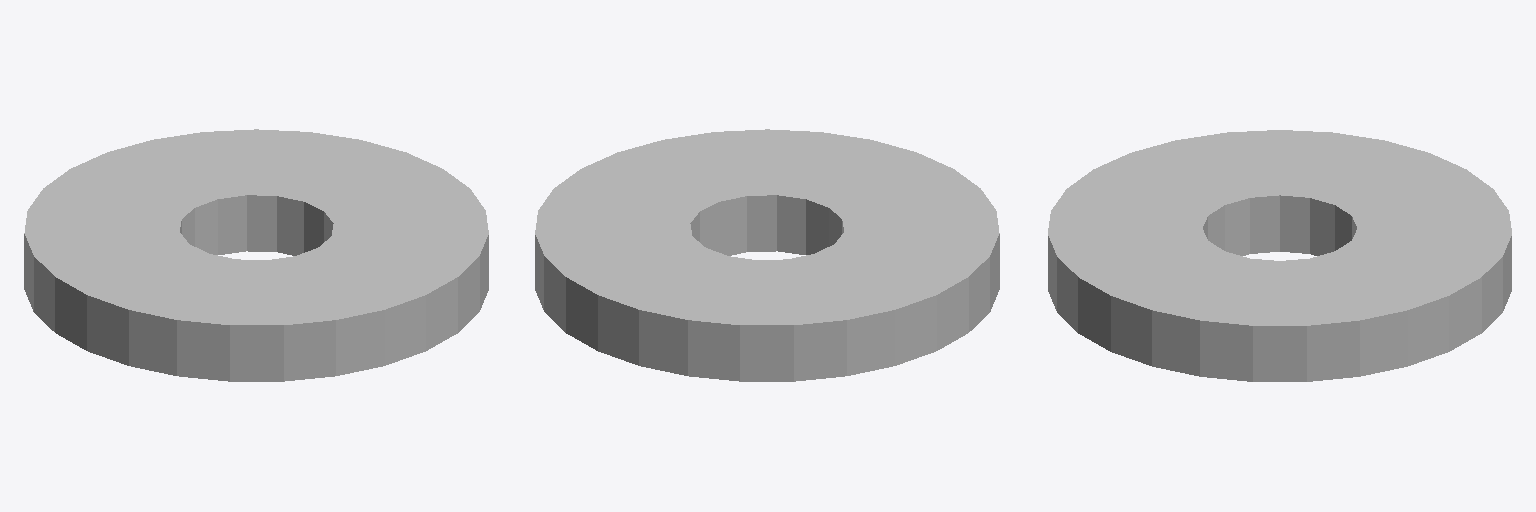
Rendered from Дистанционная шайба ролика ГРМ.obj.
3 renders of one model, left to right at view 1: azimuth 30°, elevation 25°; view 2: azimuth 150°, elevation 25°; view 3: azimuth 270°, elevation 25°, orthographic.
Parts seen in each view (by area): view 1: Дистанционная_шайба_ролика_ГРМ; view 2: Дистанционная_шайба_ролика_ГРМ; view 3: Дистанционная_шайба_ролика_ГРМ.
Part boxes in pixels (bbox=[...]): Дистанционная_шайба_ролика_ГРМ: bbox=[24, 129, 488, 381]; Дистанционная_шайба_ролика_ГРМ: bbox=[535, 129, 999, 381]; Дистанционная_шайба_ролика_ГРМ: bbox=[1048, 130, 1511, 381].
Bounding box in the file's own units: 29.9 × 4 × 29.95.